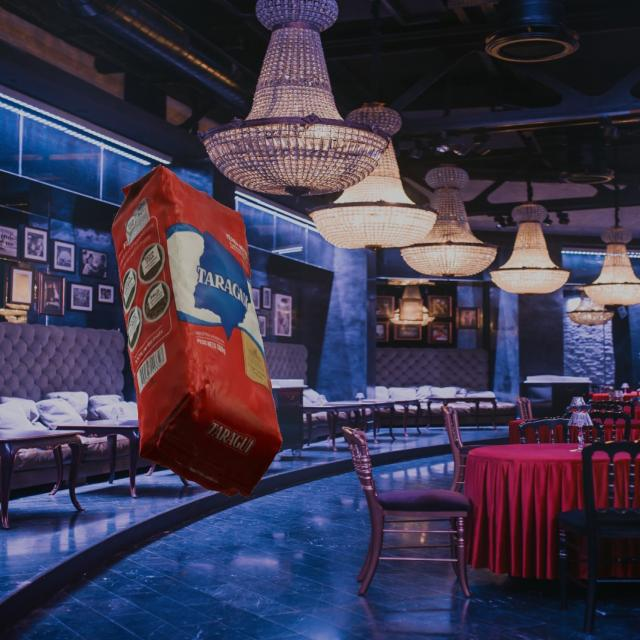mate bag: (111, 163, 283, 498)
